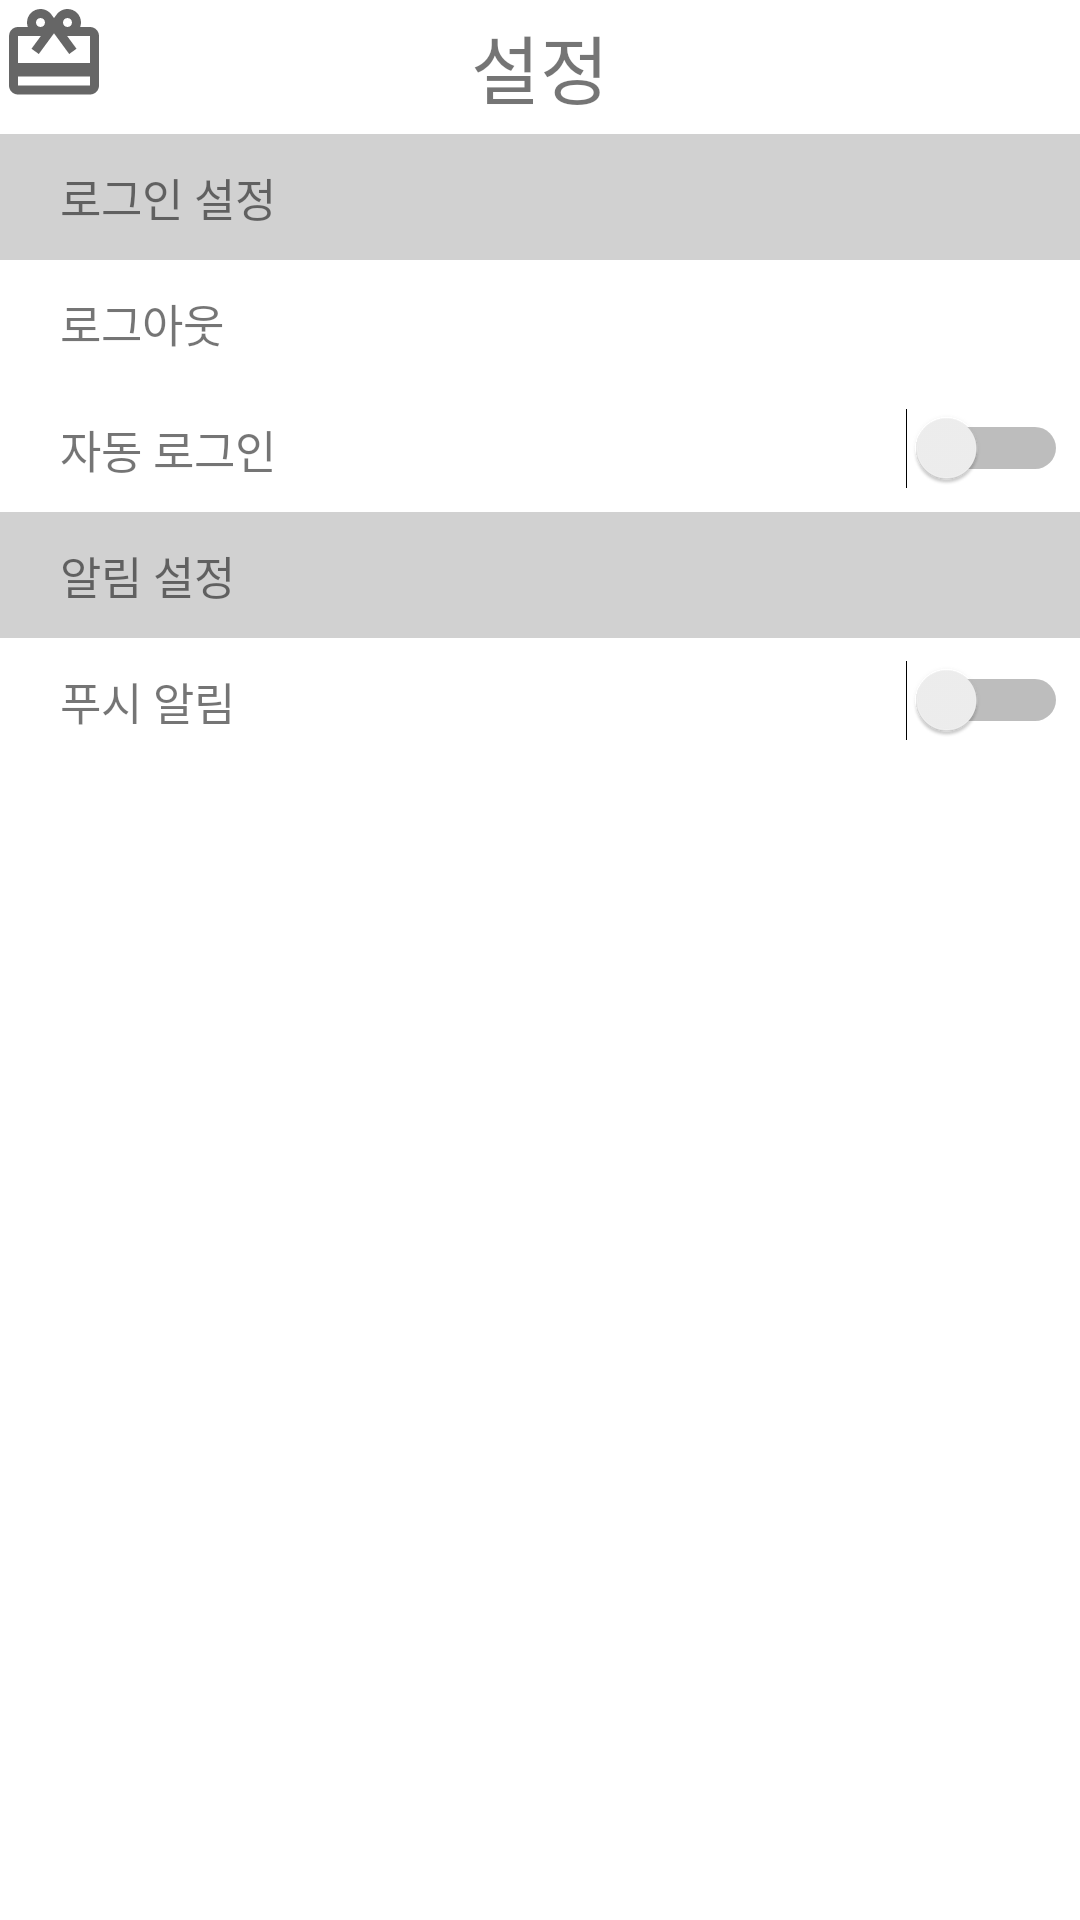

Named icons in this screenshot (1080*1920) and their centers, [x,y]:
coupon: [54,52]
